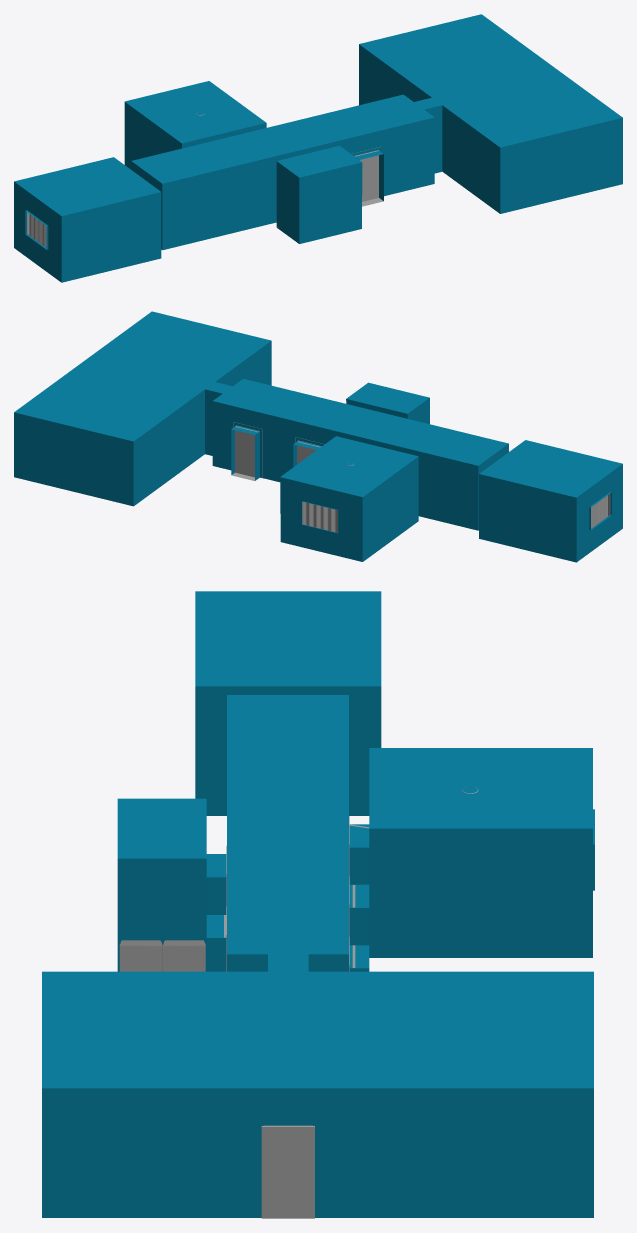
File: dormRoom_7.fbx
3 views of the same model, one above another, from view 1: azimuth 30°, elevation 25°; view 2: azimuth 150°, elevation 25°; view 3: azimuth 270°, elevation 25° (orthographic). The views are drawn at different scales.
Visible parts, largest first — view 1: dormRoom_WITH_Roof, pCube9; view 2: dormRoom_WITH_Roof, pCube8, curtain_05:rightCurtainOpen; view 3: dormRoom_WITH_Roof, pCube12, WasherDryer_02:DryerUnit, WasherDryer_02:washerUnit.
Boxes of the visible parts, x1=… form: dormRoom_WITH_Roof: x1=14, y1=14, x2=622, y2=282; pCube9: x1=355, y1=150, x2=378, y2=201; dormRoom_WITH_Roof: x1=14, y1=311, x2=622, y2=562; pCube8: x1=235, y1=426, x2=258, y2=477; curtain_05:rightCurtainOpen: x1=302, y1=501, x2=323, y2=529; dormRoom_WITH_Roof: x1=42, y1=591, x2=594, y2=1217; pCube12: x1=261, y1=1126, x2=314, y2=1218; WasherDryer_02:DryerUnit: x1=119, y1=940, x2=162, y2=971; WasherDryer_02:washerUnit: x1=162, y1=940, x2=205, y2=971.
Size of the model in its own units: 11561 by 1420 by 5398.
